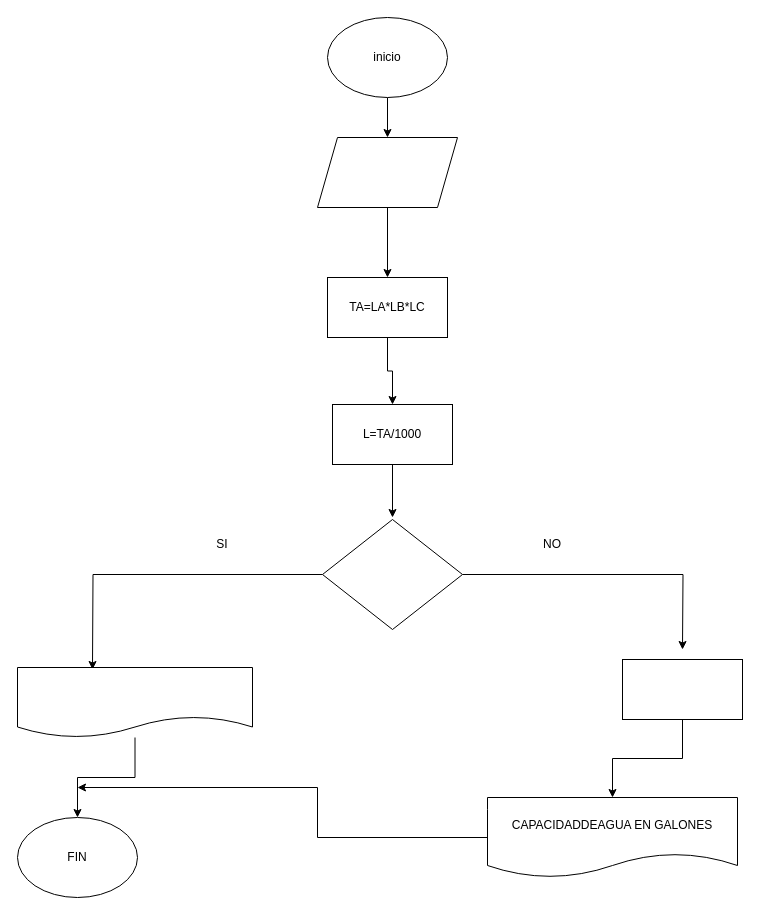
This 760x915 diagram has some shape labels left out. The shapes that lost their labels are listed below. From the top down, each one's box as (x1, y1, x2, y2) in pixels, then its label:
(316, 136, 458, 208): LA,LB,LC
(16, 666, 252, 738): CAPACIDADACUARIOENLITROS
(622, 658, 742, 720): G=L/3.78541
